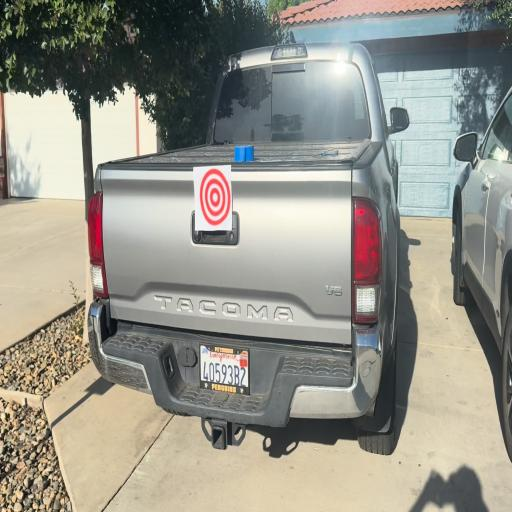bullseye: (198, 165, 232, 231)
